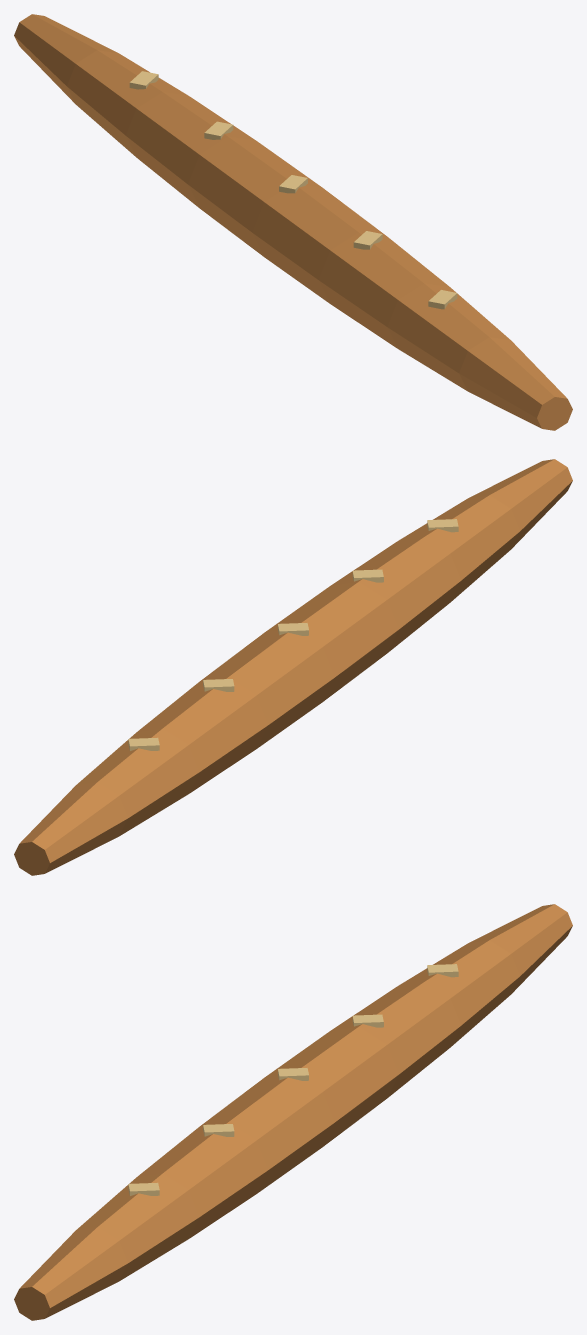
File: FD_Baguette_01.glb
The picture shows the model from 3 angles, top to bottom: view 1: azimuth 30°, elevation 25°; view 2: azimuth 150°, elevation 25°; view 3: azimuth 330°, elevation 25°; orthographic projection.
Visible parts, largest first — view 1: FD_Baguette_01; view 2: FD_Baguette_01; view 3: FD_Baguette_01.
Boxes of the visible parts, left/top/right/bottom form: FD_Baguette_01: left=14, top=14, right=572, bottom=430; FD_Baguette_01: left=14, top=459, right=572, bottom=875; FD_Baguette_01: left=14, top=904, right=572, bottom=1320.
Bounding box in the file's own units: 0.064 × 0.0586 × 0.7.
1 material, 1 textured.
